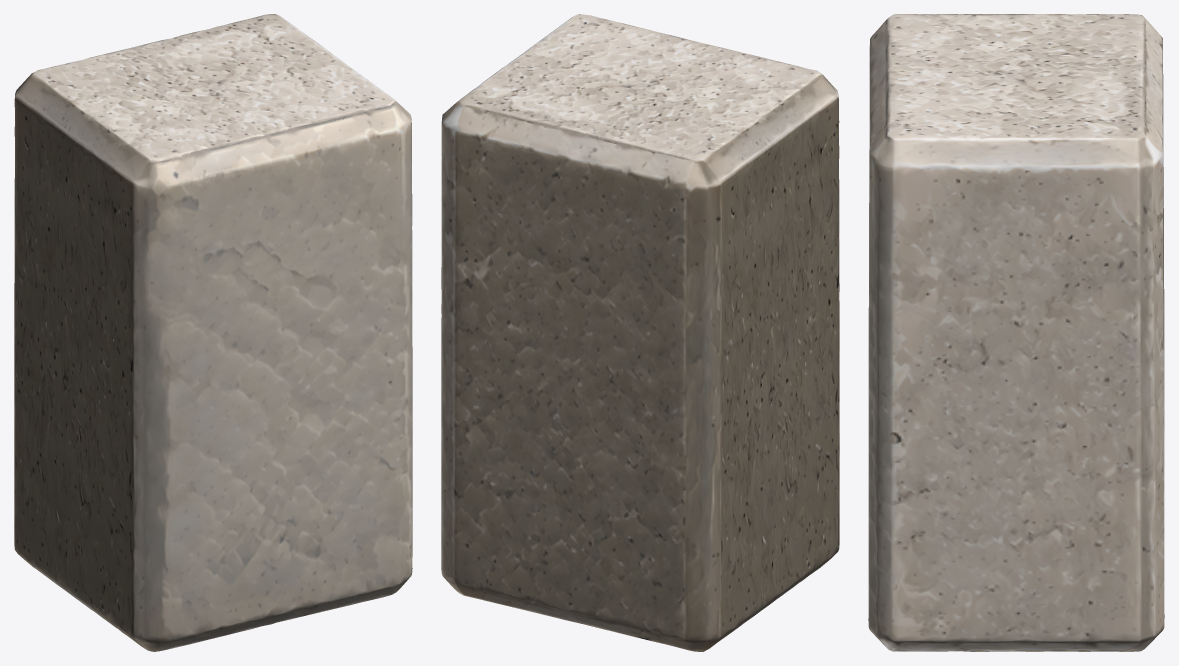
File: 1_LowerPillar.glb
3 renders of one model, left to right at view 1: azimuth 30°, elevation 25°; view 2: azimuth 150°, elevation 25°; view 3: azimuth 270°, elevation 25°, orthographic. The views are drawn at different scales.
Parts seen in each view (by area): view 1: input; view 2: input; view 3: input.
Boxes of the visible parts, x1=… form: input: x1=14, y1=14, x2=412, y2=651; input: x1=441, y1=14, x2=839, y2=651; input: x1=868, y1=14, x2=1164, y2=651.
Bounding box in the file's own units: 0.5945 × 0.9998 × 0.5227.
1 material, 1 textured.
